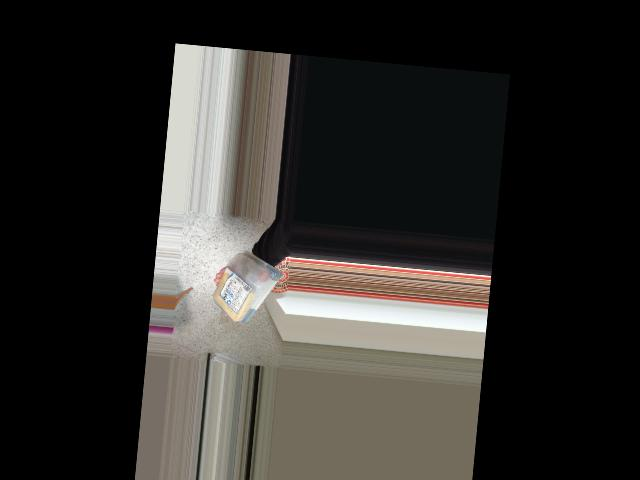cheese: (205, 244, 288, 330)
